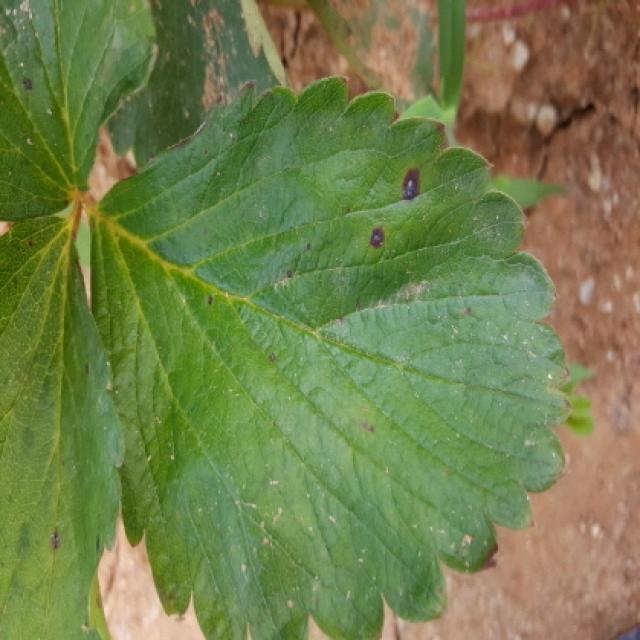Leaf Spot: (89, 74, 572, 638), (0, 217, 126, 638)
